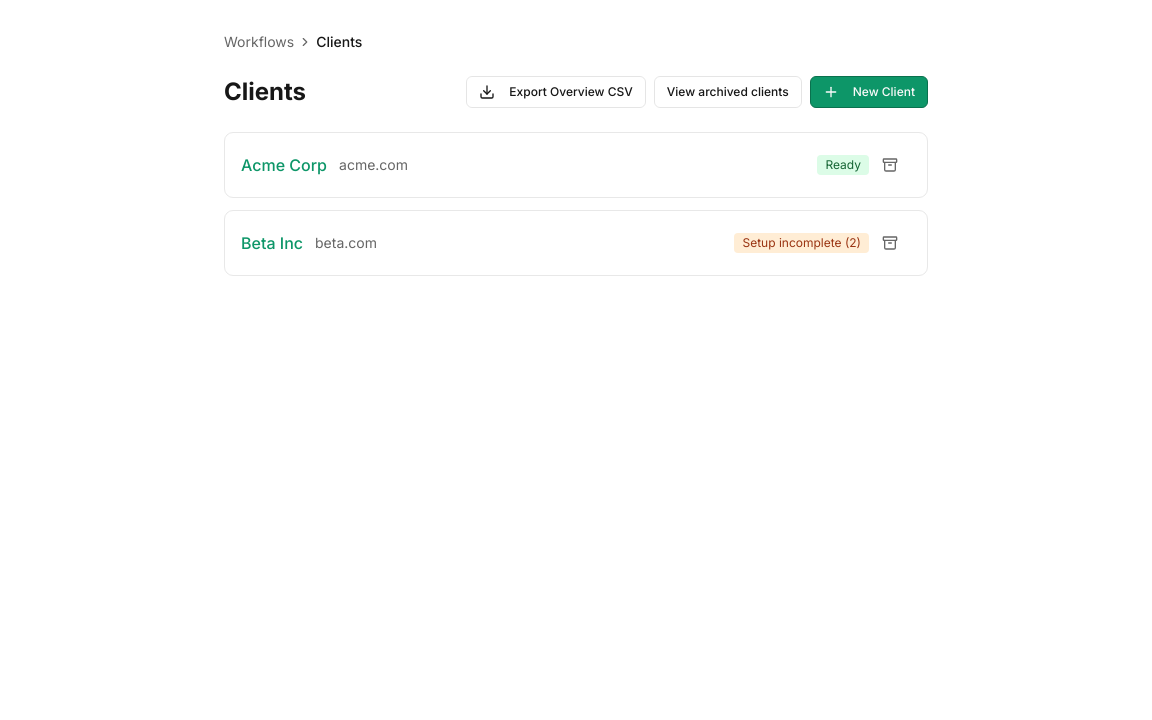
ClientsList — archive / restore › keeps the permanent-delete confirm button disabled until the typed name matches exactly
Check: the text "Acme Corp" is shown, box [241,155,327,175]
Click the button "View archived clients".
click(728, 92)  # box [654,76,802,108]
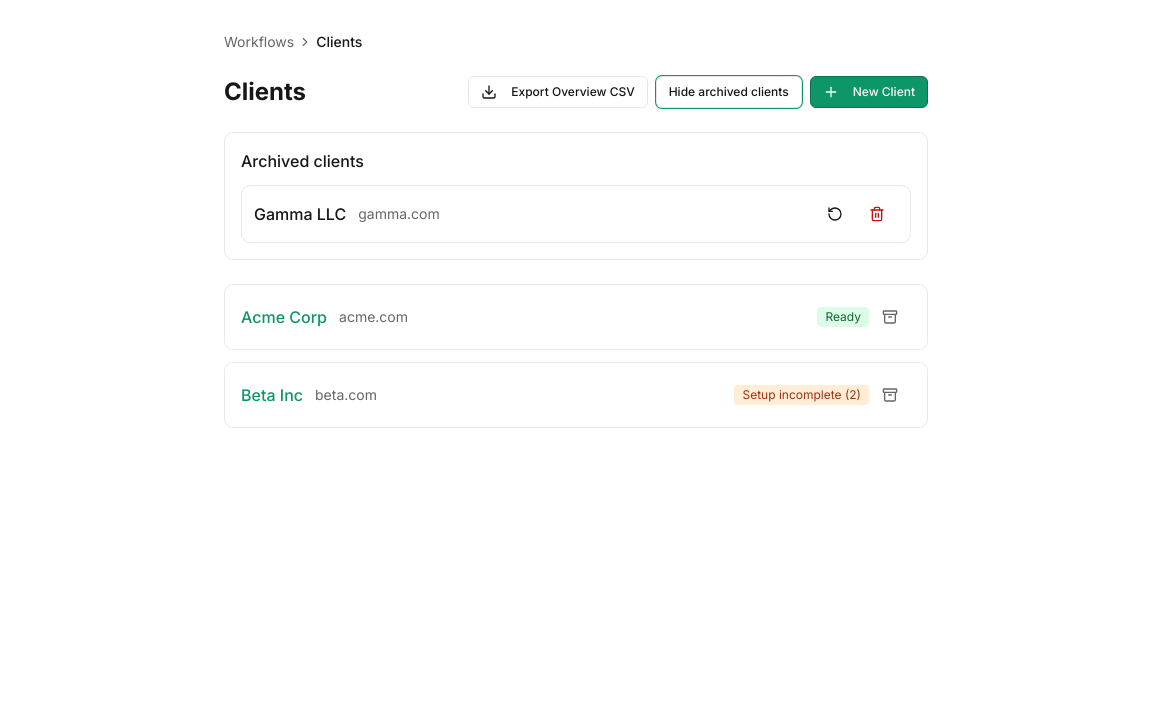
Check: the text "Gamma LLC" is shown, box [254,202,346,226]
Click the button named "delete gamma llc permanently".
click(877, 214)  # box [856,198,898,230]
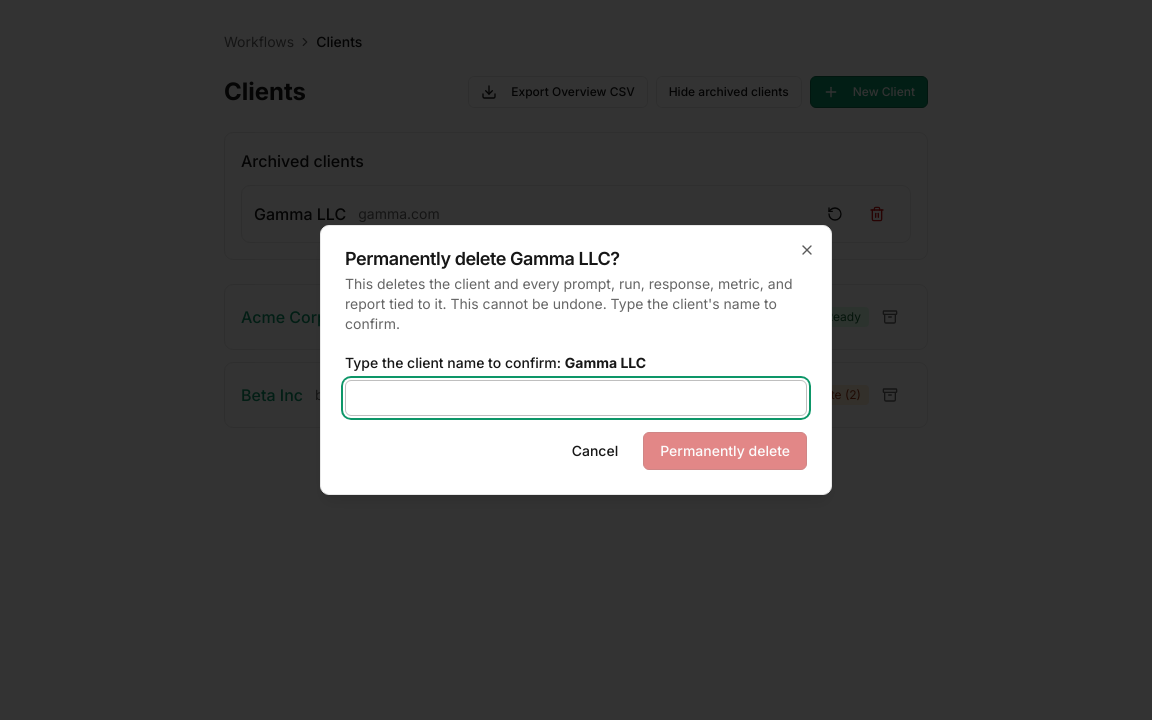
Check: the button "Permanently delete" is disabled, box [643,432,807,470]
Type "Gamma L" into the field labelled "Type the client name to confirm: Gamma LLC".
click(576, 398); type("Gamma L")  # box [345,380,807,416]
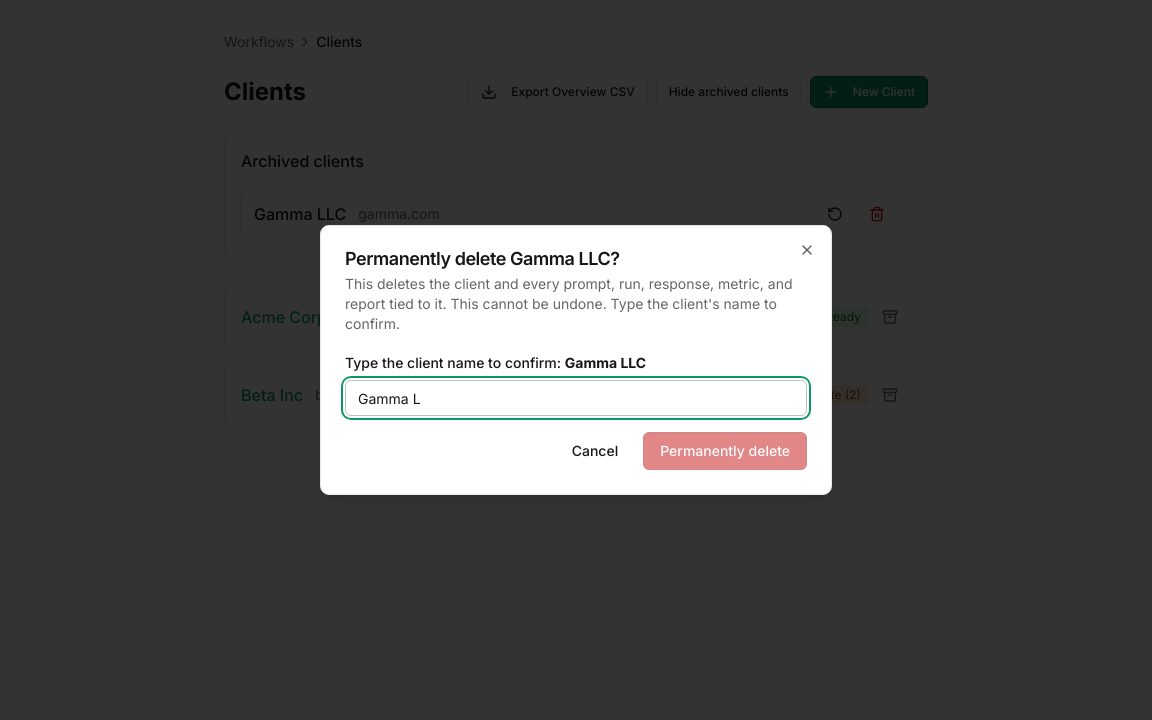
Check: the button "Permanently delete" is disabled, box [643,432,807,470]
Type "LC" into the field labelled "Type the client name to confirm: Gamma LLC".
click(576, 398); type("LC")  # box [345,380,807,416]
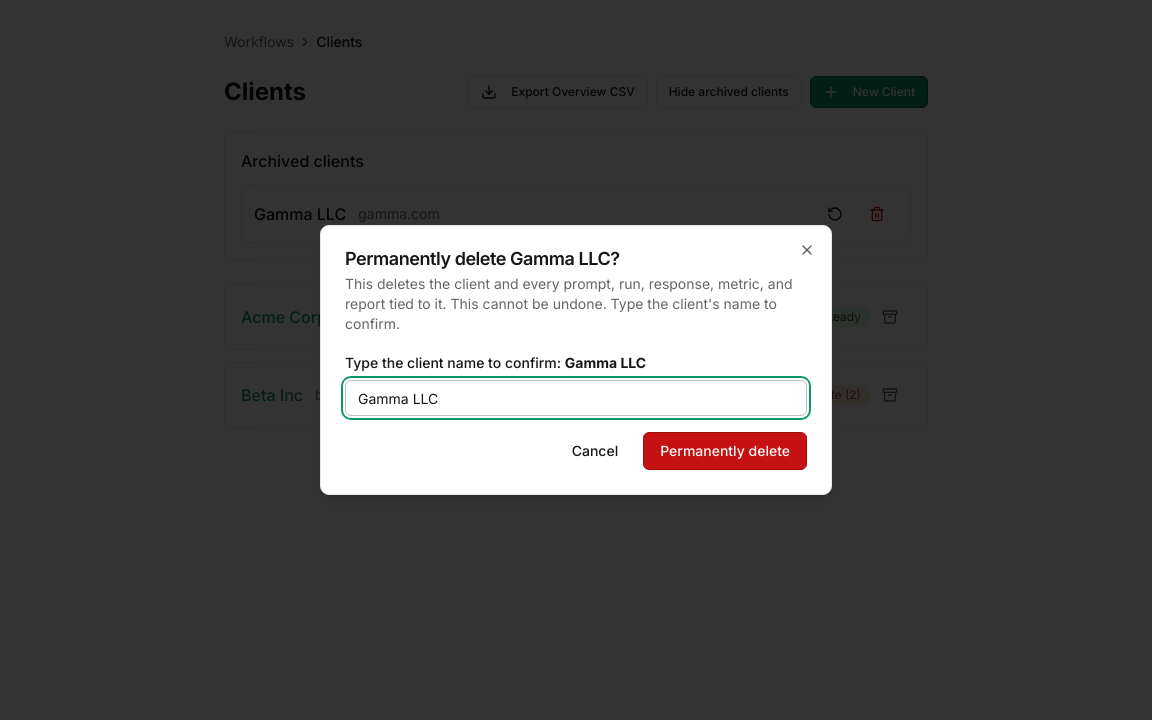
Check: the button "Permanently delete" is enabled, box [643,432,807,470]
